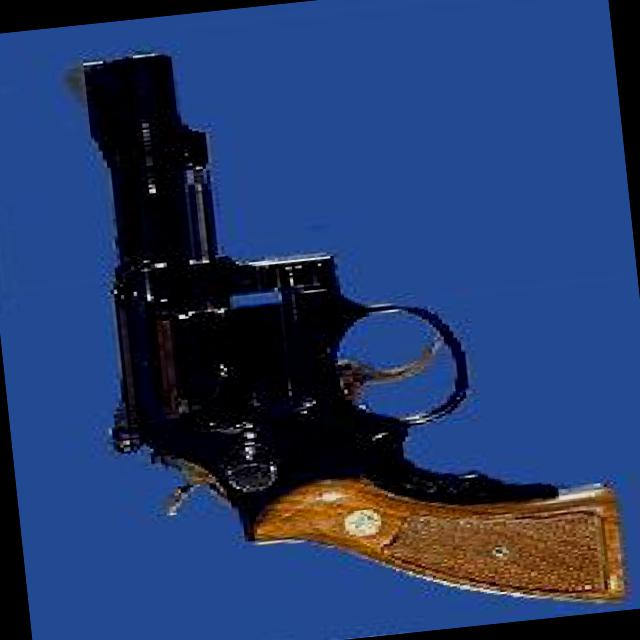handgun: (56, 11, 623, 639)
